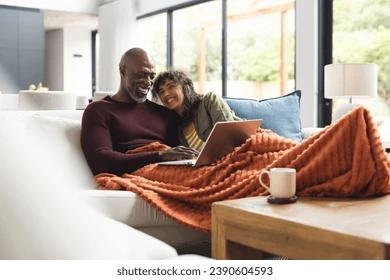blanket: (91, 105, 390, 233)
long sleeve shirt: (178, 91, 245, 153)
sweater: (79, 94, 182, 176)
